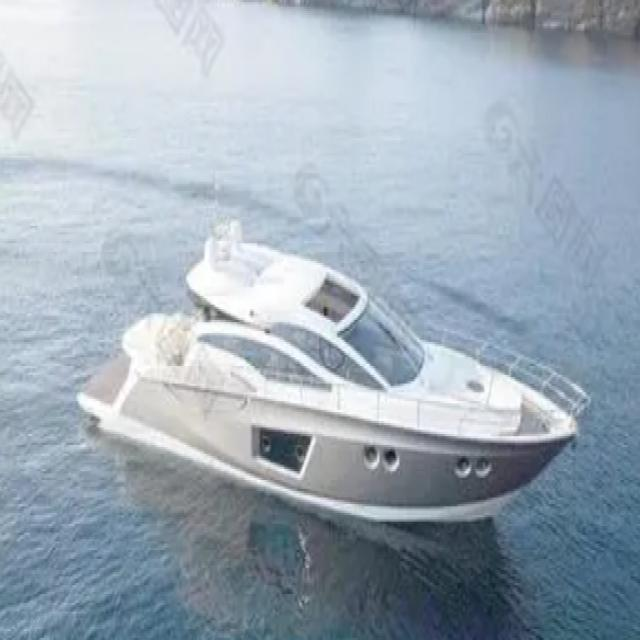houseboat: (90, 218, 578, 526)
